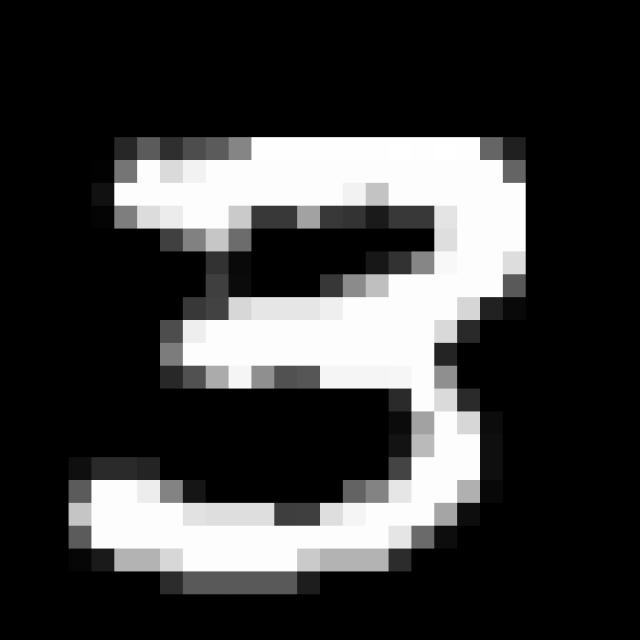three -3-: (58, 117, 546, 598)
